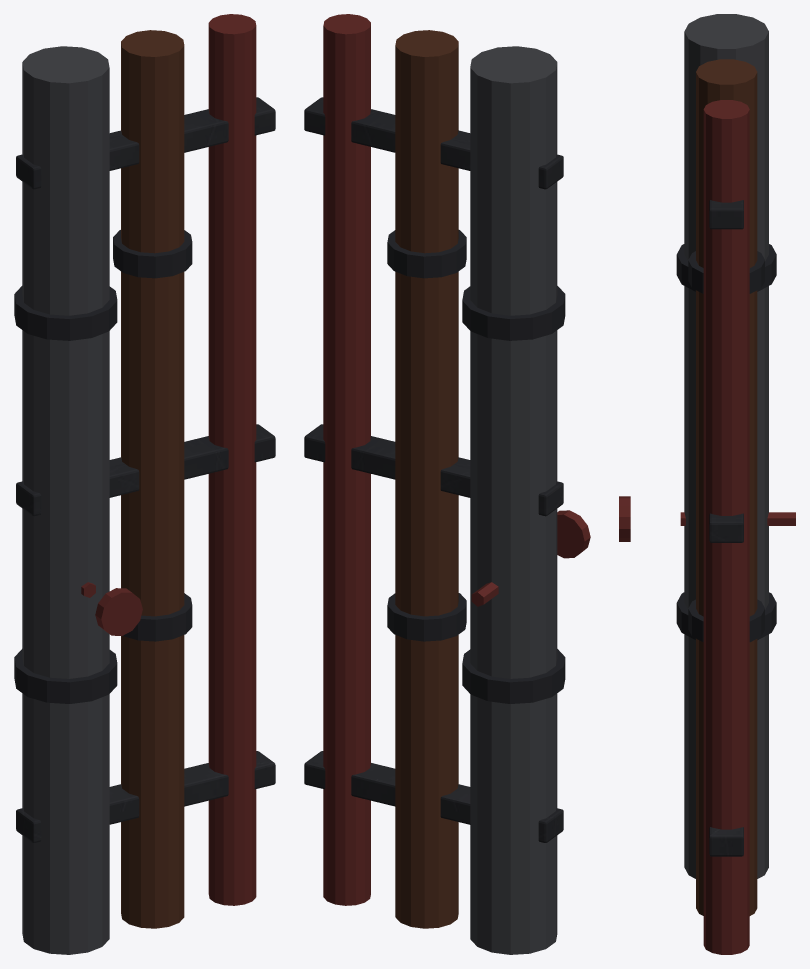
File: pipe_cluster.glb
The picture shows the model from 3 angles, left to right: view 1: azimuth 30°, elevation 25°; view 2: azimuth 150°, elevation 25°; view 3: azimuth 270°, elevation 25°; orthographic projection. The views are drawn at different scales.
Visible parts, largest first — view 1: body; view 2: body; view 3: body.
Part boxes in pixels (box(x1,y1,x2,y2)): body: box(14, 14, 275, 954); body: box(304, 14, 590, 954); body: box(619, 14, 795, 954).
Bounding box in the file's own units: 0.7067 × 2.4 × 0.46.
Materials: 4 (4 with a texture image).
